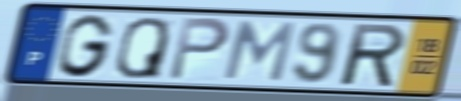9: (292, 21, 343, 87)
G: (56, 12, 117, 79)
M: (220, 19, 299, 84)
P: (166, 15, 233, 83)
Q: (113, 15, 172, 81)
R: (340, 21, 409, 89)
